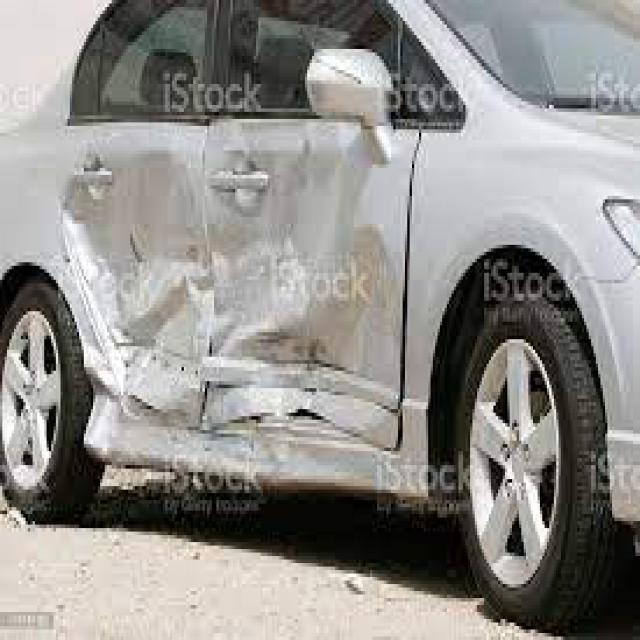doorouter-dent: (196, 116, 438, 494), (38, 112, 217, 454)
